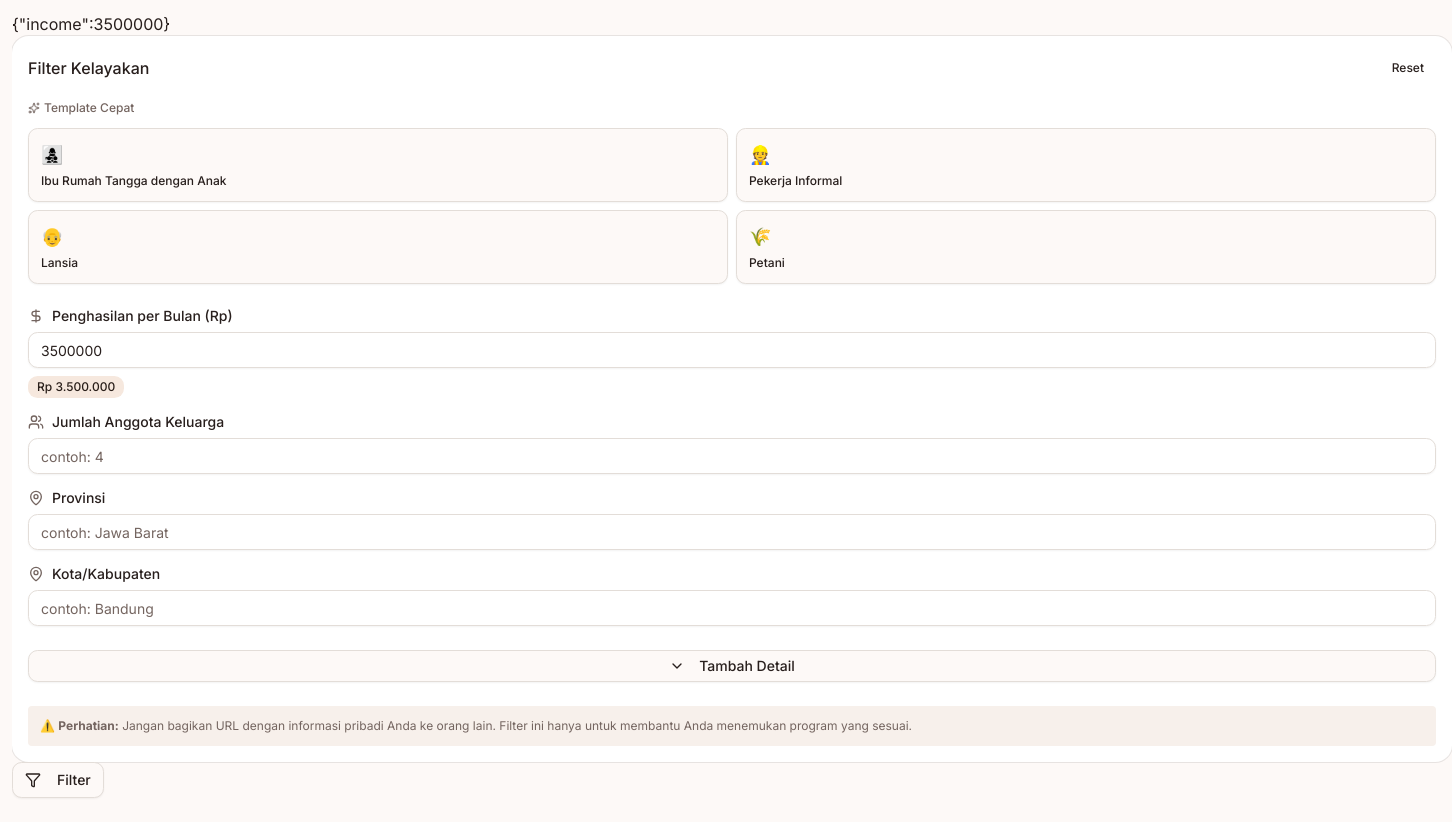
Test: Filter State Synchronization › Requirement 1.5: URL parameter synchronization maintained › URL parameters include all filter fields
# Set multiple filters
Replace the text in the number field labelled "Penghasilan per Bulan (Rp)" with "2000000" at point(732, 350), box x1=28 y1=332 x2=1436 y2=368
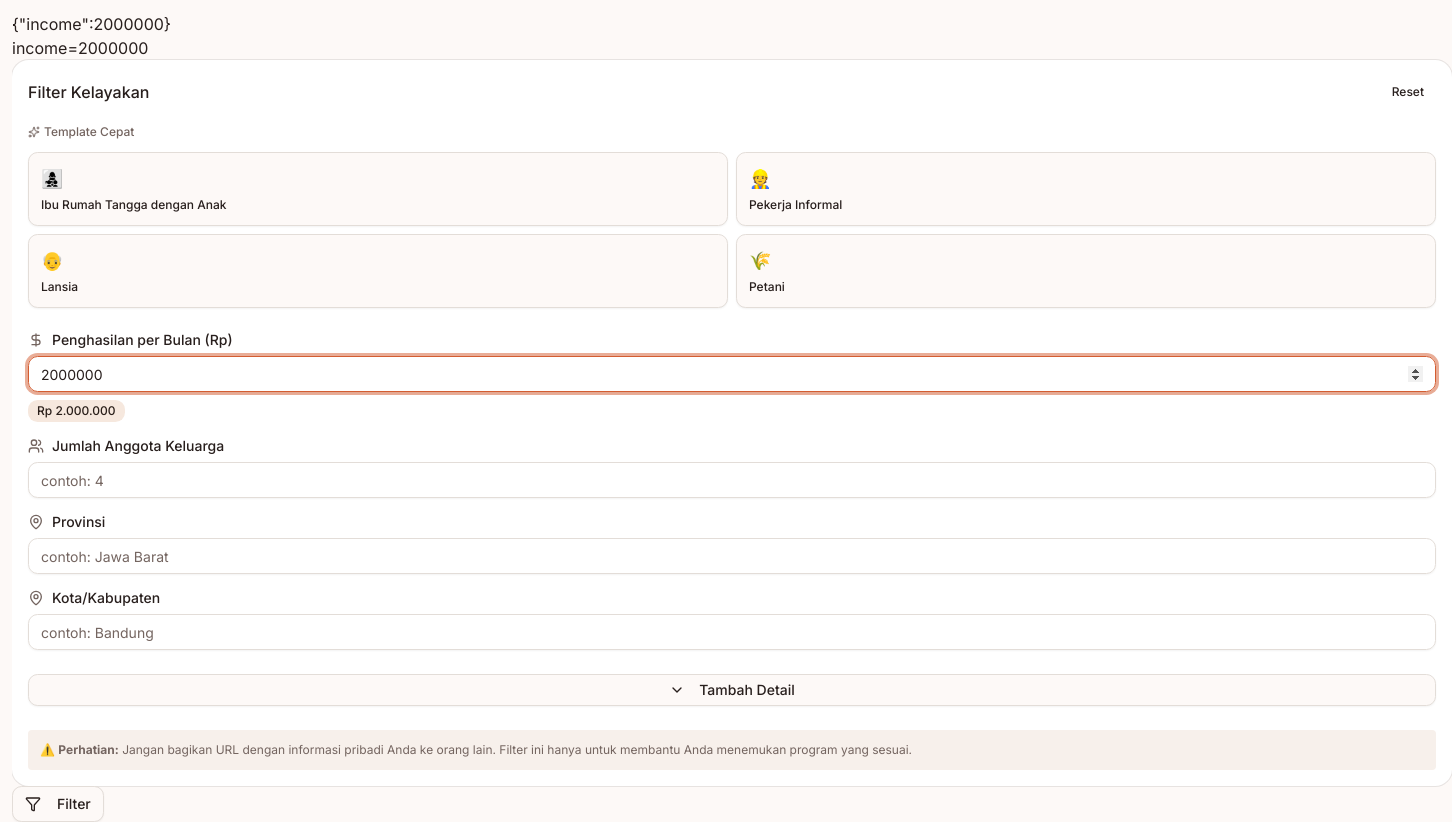
Type "5" into the number field labelled "Jumlah Anggota Keluarga" at point(732, 480), box x1=28 y1=462 x2=1436 y2=498
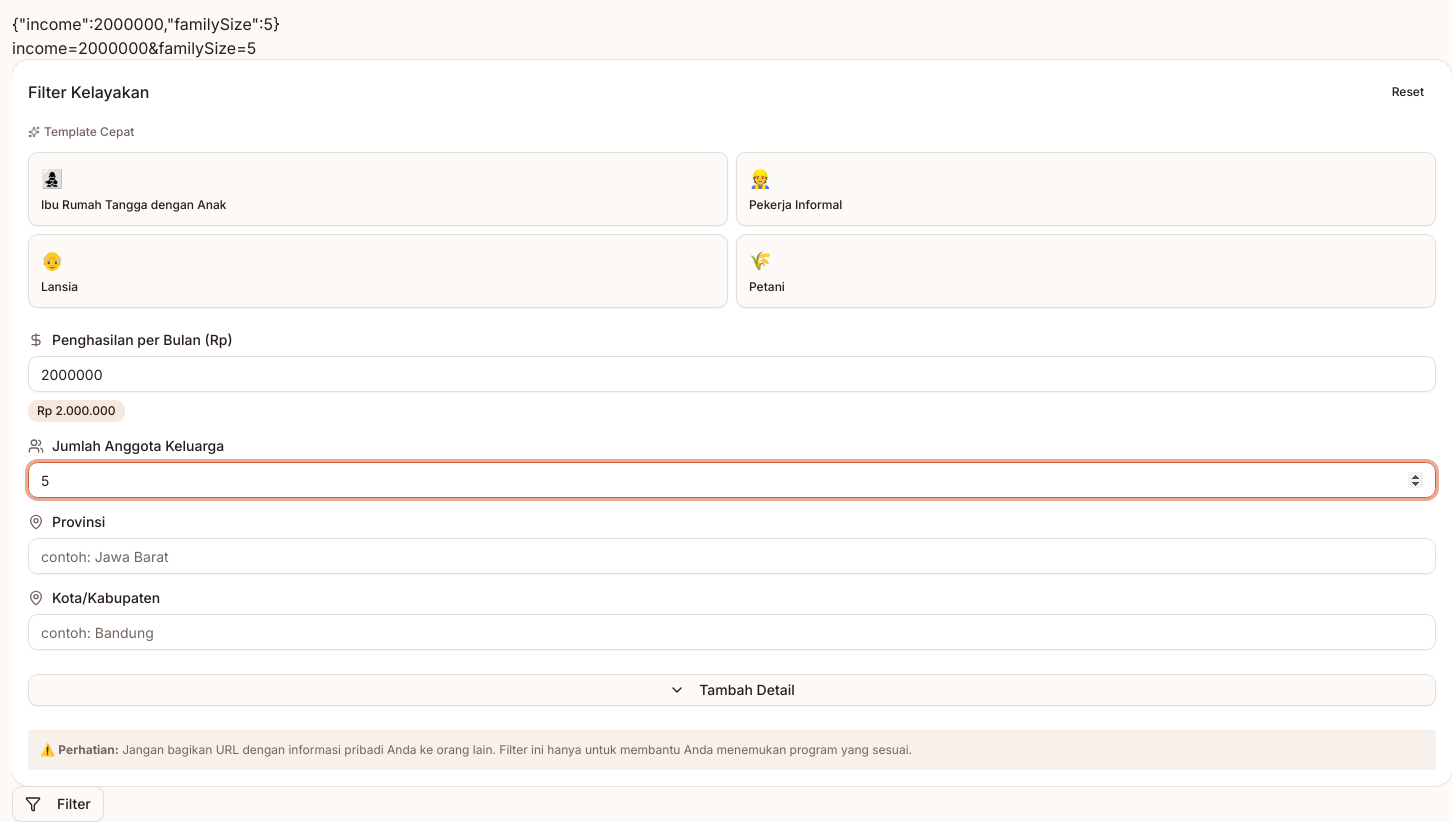
Type "Jawa Barat" into the field labelled "Provinsi" at point(732, 556), box x1=28 y1=538 x2=1436 y2=574
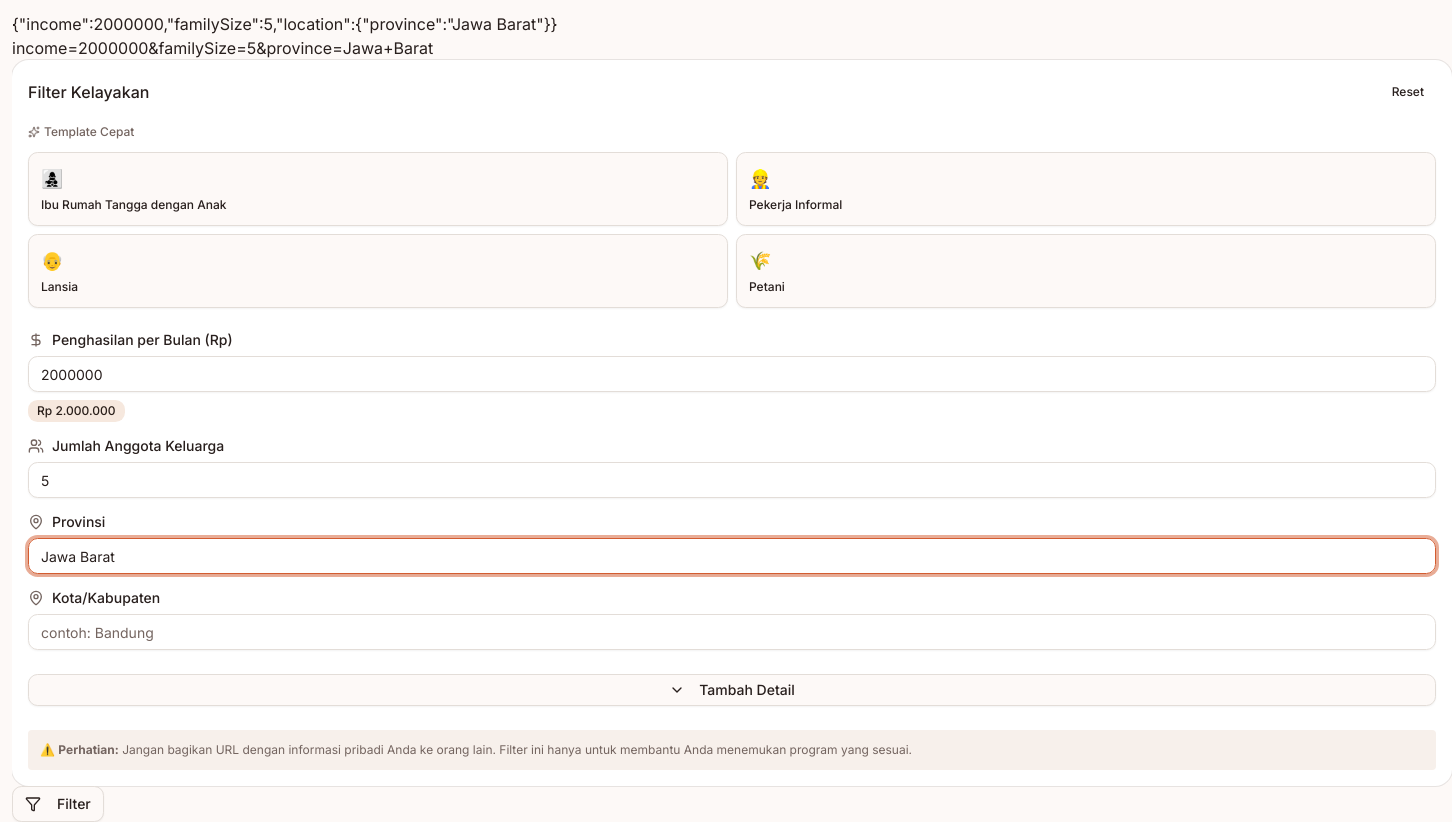
Result: the text with test id "url-params" shows "income=2000000" at x1=12 y1=38 x2=433 y2=58
Result: the text with test id "url-params" shows "familySize=5" at x1=12 y1=38 x2=433 y2=58
Result: the text with test id "url-params" shows "province=Jawa+Barat" at x1=12 y1=38 x2=433 y2=58
